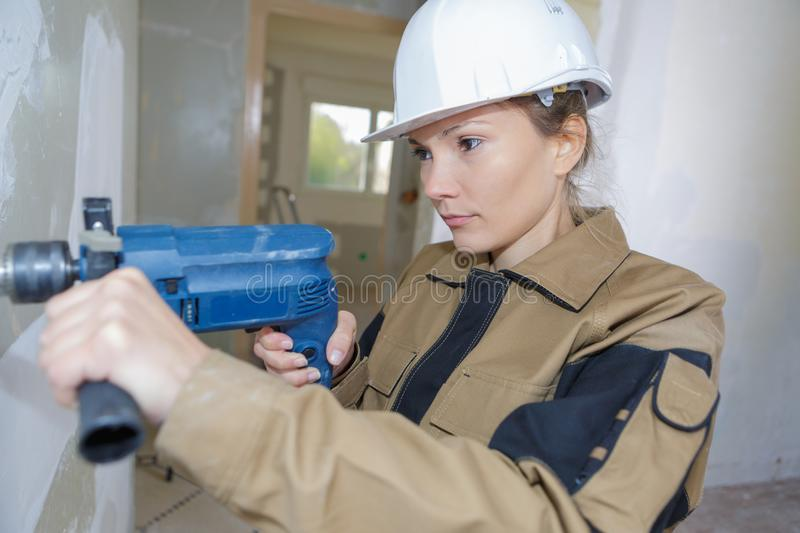helmet: (368, 1, 616, 139)
